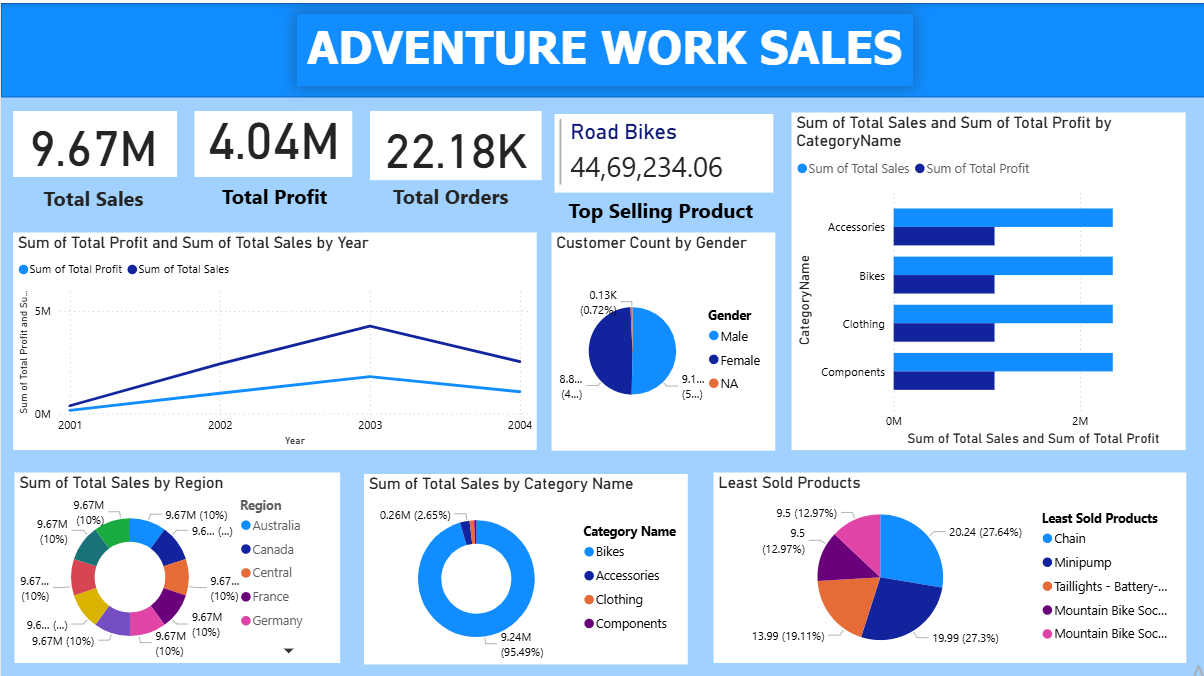

The page's visual inventory and layout, read from the dashboard file:
{"tool":"powerbi","page":{"name":"Page 4","canvas":[1280,720],"ordinal":3},"visuals":[{"type":"shape","box":[0,0,1280,100],"z":0},{"type":"card","fields":{"Values":["Sum(Merge2.Profit)"]},"box":[206,115,167.1,69.8],"z":0,"group":"g1"},{"type":"textbox","box":[313.3,11.7,653.3,76.7],"z":1000},{"type":"textbox","box":[229.2,185.4,145.6,48.2],"z":1000,"group":"g1"},{"type":"group","id":"g1","title":"Group 1","box":[206,115,169,118],"z":2000,"group":"g3"},{"type":"lineChart","fields":{"Category":["Merge2.Total Sales.StockDate.Variation.Date Hierarchy.Year"],"Y":["Sum(Merge2.Profit)","Sum(Merge2.Sales)"]},"box":[12.7,243.4,555.1,230.6],"z":2000},{"type":"clusteredBarChart","fields":{"Category":["AdventureWorks_Product_Categories.CategoryName"],"Y":["Sum(Merge2.Total Sales)","Sum(Merge2.Total Profit)"]},"box":[838.3,116.1,418.3,357.9],"z":3000},{"type":"textbox","box":[31.2,186.5,135.7,46.5],"z":3001,"group":"g2"},{"type":"group","id":"g2","title":"Group 2","box":[31.2,186.5,135.7,46.5],"z":4000,"group":"g5"},{"type":"donutChart","fields":{"Y":["Sum(Merge2.Sales)"],"Category":["Merge2.AdventureWorks_Product_Categories.CategoryName"]},"box":[384.9,499.5,343.6,202],"z":4000},{"type":"donutChart","fields":{"Category":["AdventureWorks_Territories.Region"],"Y":["Sum(Merge2.Sales)"]},"box":[14.3,497.9,345.2,202],"z":5000},{"type":"group","id":"g3","title":"Group 4","box":[13,115,556.7,125],"z":6000},{"type":"textbox","box":[383,185,186.7,55],"z":6000,"group":"g3"},{"type":"cardVisual","fields":{"Data":["Sum(Merge2.Sales)"]},"box":[13,115,173.7,69.8],"z":7000,"group":"g5"},{"type":"pieChart","title":"Least Sold Products","fields":{"Category":["Merge2.ProductName"],"Y":["Sum(Merge2.Sales)"]},"box":[755.6,497.8,501.1,202.2],"z":7000},{"type":"group","id":"g4","title":"Group 5","box":[580.9,198.2,237.9,45.6],"z":8000},{"type":"textbox","box":[580.9,198.2,238.1,46.1],"z":9000,"group":"g4"},{"type":"pieChart","title":"Customer Count by Gender","fields":{"Category":["AdventureWorks_Customers (2).Gender"],"Y":["CountNonNull(AdventureWorks_Customers (2).Gender)"]},"box":[584,243,237,231],"z":9000},{"type":"multiRowCard","fields":{"Values":["Sum(Merge2.Total Sales)","Merge2.AdventureWorks_Product_Subcategories.SubcategoryName"]},"box":[586.8,117,232,83.3],"z":10000},{"type":"card","fields":{"Values":["CountNonNull(Merge2.Total Sales.OrderNumber)"]},"box":[392,114,182,73],"z":11000},{"type":"group","id":"g5","title":"Group 3","box":[13,115,173.7,118],"z":11001,"group":"g3"}]}

Visuals, with their boxes in screenshot pixels (x1, y1, x2, y2), scaled from the page's 1280x720 canvas onto the 1204x676 screenshot:
shape: detection(0, 0, 1203, 94)
card - Sum(Merge2.Profit): detection(194, 108, 351, 174)
textbox: detection(295, 11, 909, 83)
textbox: detection(216, 174, 353, 219)
"Group 1" group: detection(194, 108, 353, 219)
lineChart - Merge2.Total Sales.StockDate.Variation.Date Hierarchy.Year x Sum(Merge2.Profit): detection(12, 229, 534, 445)
clusteredBarChart - AdventureWorks_Product_Categories.CategoryName x Sum(Merge2.Total Sales): detection(789, 109, 1182, 445)
textbox: detection(29, 175, 157, 219)
"Group 2" group: detection(29, 175, 157, 219)
donutChart - Sum(Merge2.Sales) x Merge2.AdventureWorks_Product_Categories.CategoryName: detection(362, 469, 685, 659)
donutChart - AdventureWorks_Territories.Region x Sum(Merge2.Sales): detection(13, 467, 338, 657)
"Group 4" group: detection(12, 108, 536, 225)
textbox: detection(360, 174, 536, 225)
cardVisual - Sum(Merge2.Sales): detection(12, 108, 176, 174)
"Least Sold Products" pieChart: detection(711, 467, 1182, 657)
"Group 5" group: detection(546, 186, 770, 229)
textbox: detection(546, 186, 770, 229)
"Customer Count by Gender" pieChart: detection(549, 228, 772, 445)
multiRowCard - Sum(Merge2.Total Sales) x Merge2.AdventureWorks_Product_Subcategories.SubcategoryName: detection(552, 110, 770, 188)
card - CountNonNull(Merge2.Total Sales.OrderNumber): detection(369, 107, 540, 176)
"Group 3" group: detection(12, 108, 176, 219)
